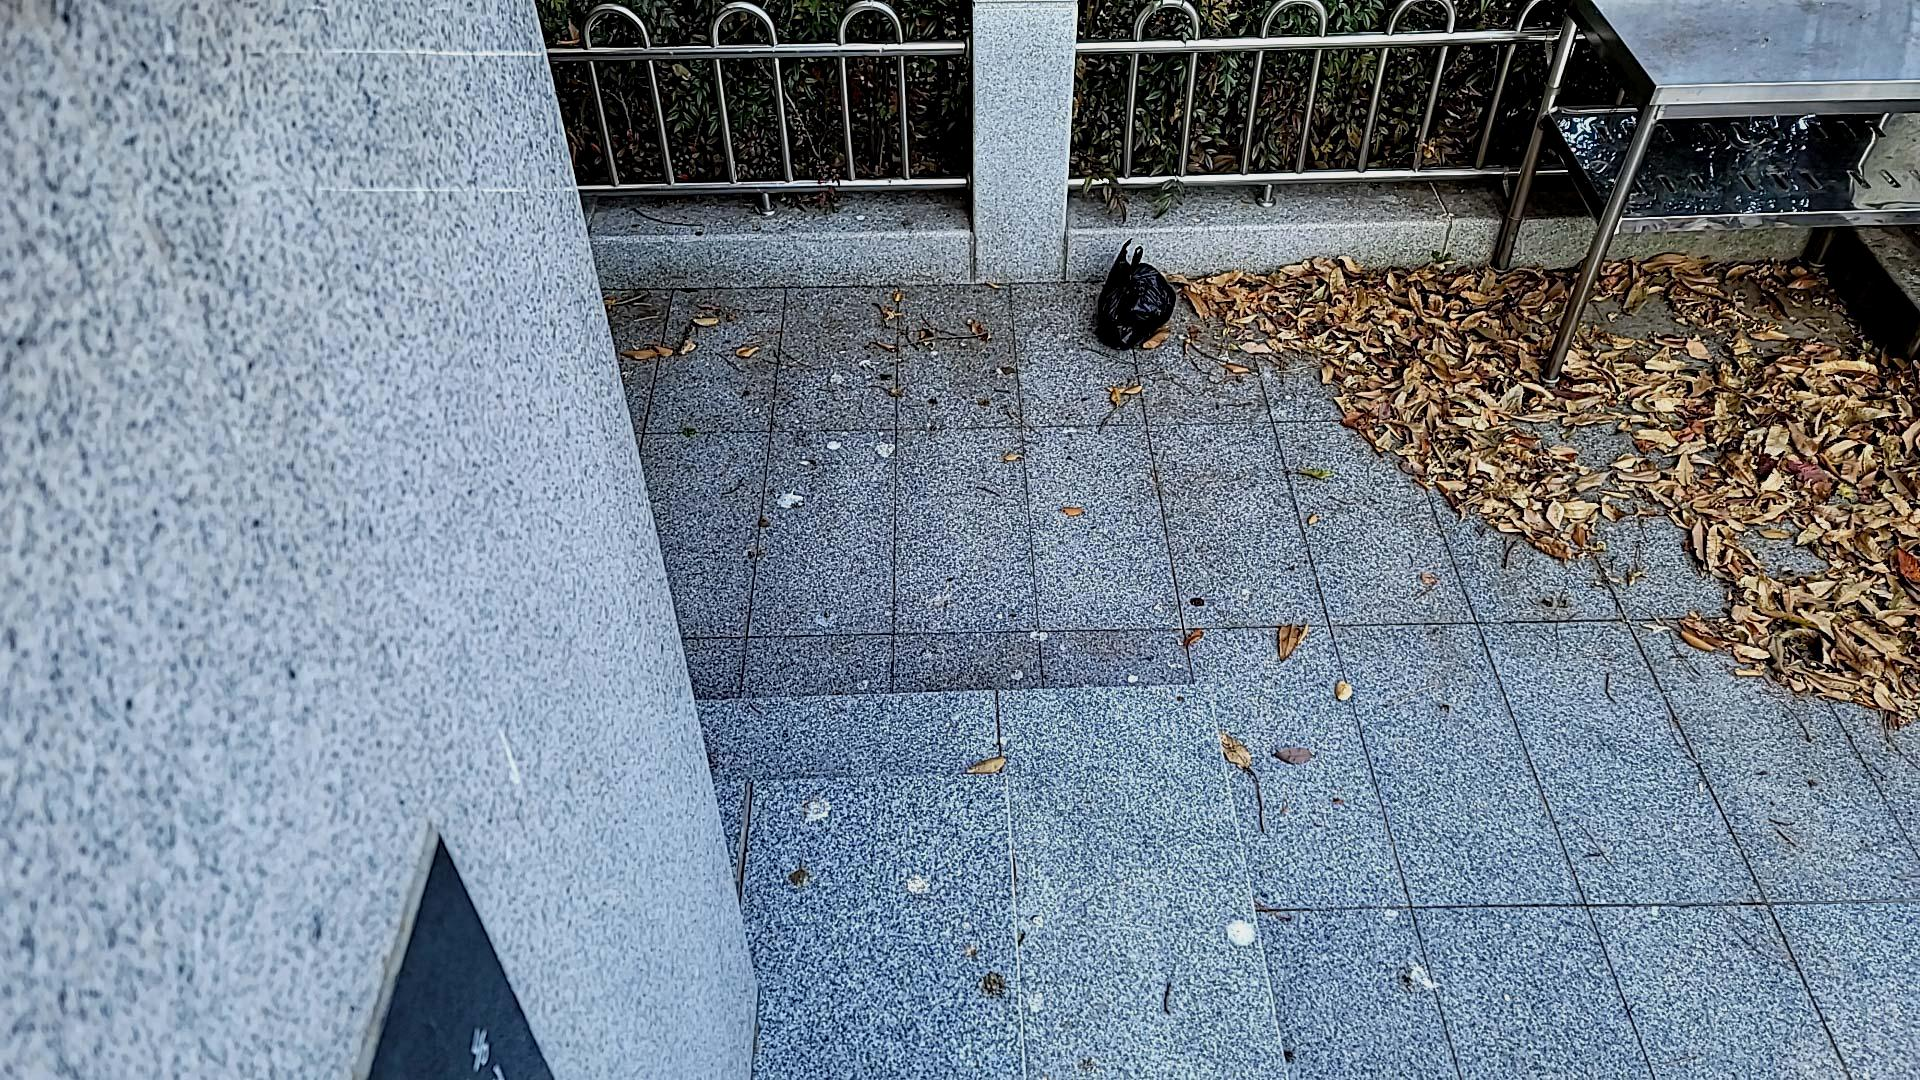black_bag: (1085, 235, 1182, 353)
